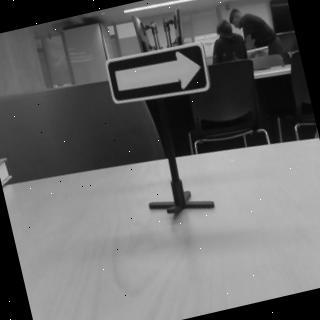sign_oneway_right: (103, 37, 217, 115)
